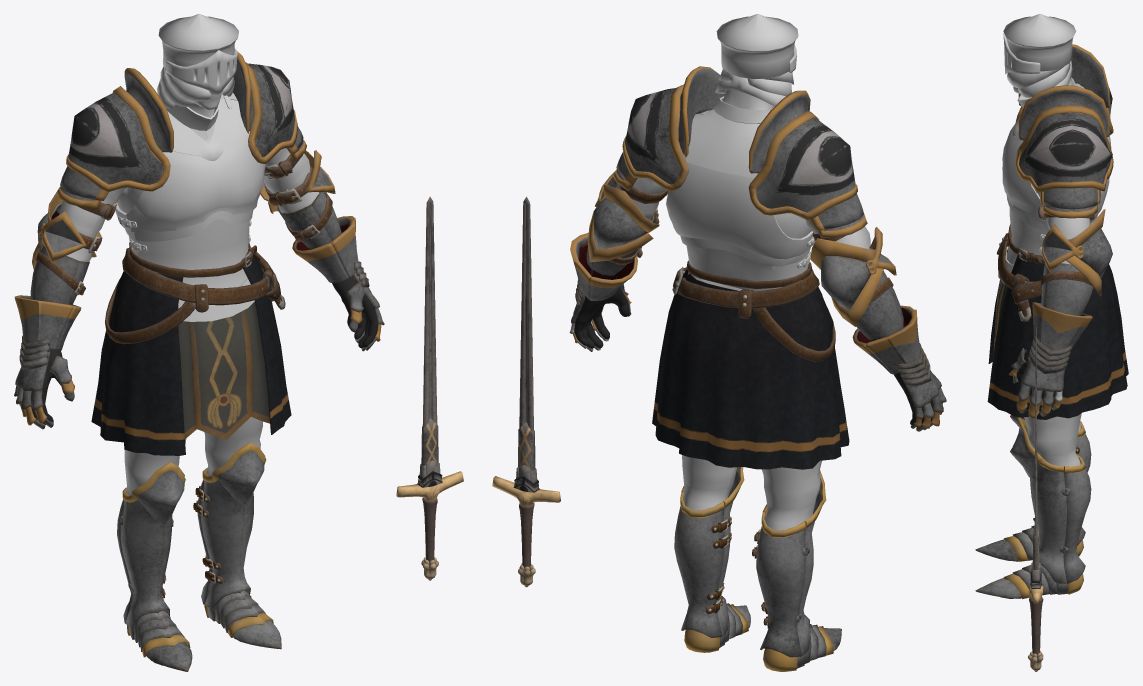
File: Knight_Default.FBX
3 renders of one model, left to right at view 1: azimuth 30°, elevation 25°; view 2: azimuth 150°, elevation 25°; view 3: azimuth 270°, elevation 25°, orthographic. The views are drawn at different scales.
Visible parts, largest first — view 1: arm, bottom, shoes, top, helemt, sword; view 2: arm, bottom, shoes, top, helemt, sword; view 3: arm, bottom, shoes, helemt, top, sword.
Boxes of the visible parts, x1=… form: arm: x1=14, y1=51, x2=384, y2=429; bottom: x1=91, y1=242, x2=291, y2=455; shoes: x1=117, y1=442, x2=281, y2=671; top: x1=115, y1=91, x2=265, y2=321; helemt: x1=59, y1=14, x2=319, y2=495; sword: x1=396, y1=196, x2=463, y2=580; arm: x1=569, y1=66, x2=946, y2=431; bottom: x1=652, y1=260, x2=849, y2=469; shoes: x1=674, y1=467, x2=841, y2=671; top: x1=666, y1=96, x2=815, y2=291; helemt: x1=616, y1=14, x2=870, y2=530; sword: x1=492, y1=196, x2=560, y2=587; arm: x1=1009, y1=44, x2=1113, y2=418; bottom: x1=987, y1=224, x2=1128, y2=419; shoes: x1=975, y1=415, x2=1091, y2=599; helemt: x1=1003, y1=14, x2=1089, y2=466; top: x1=998, y1=77, x2=1111, y2=283; sword: x1=1028, y1=327, x2=1043, y2=671.
Bounding box in the file's own units: 35.64 × 47.95 × 11.95.
